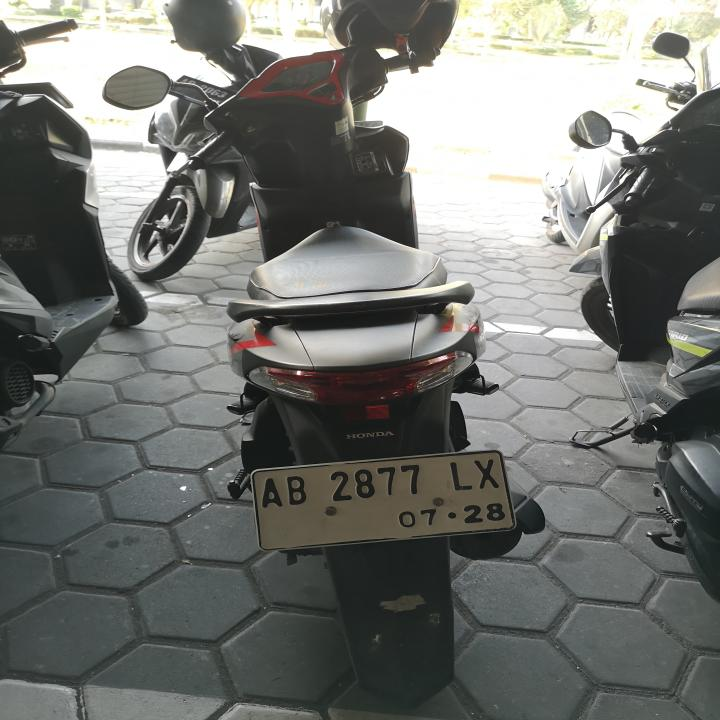plate: (247, 444, 521, 554)
